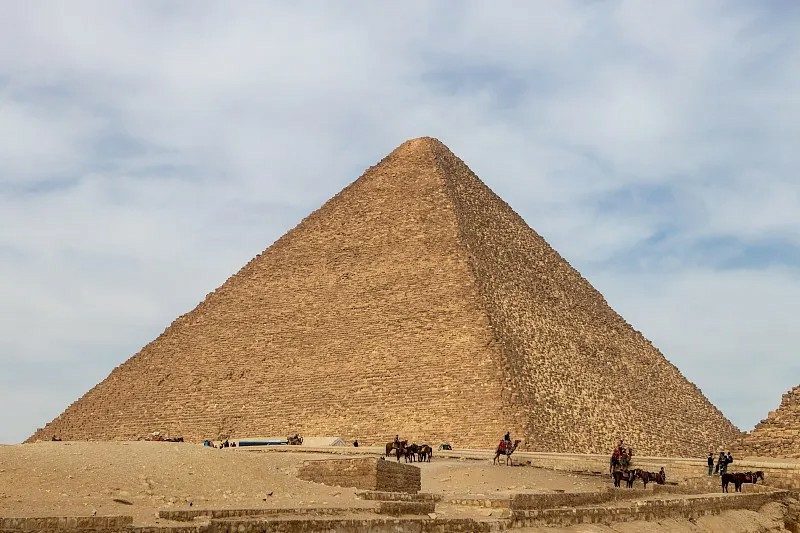Pyramid: (22, 135, 745, 458)
